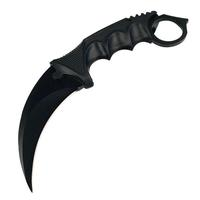knife: (16, 5, 187, 195)
